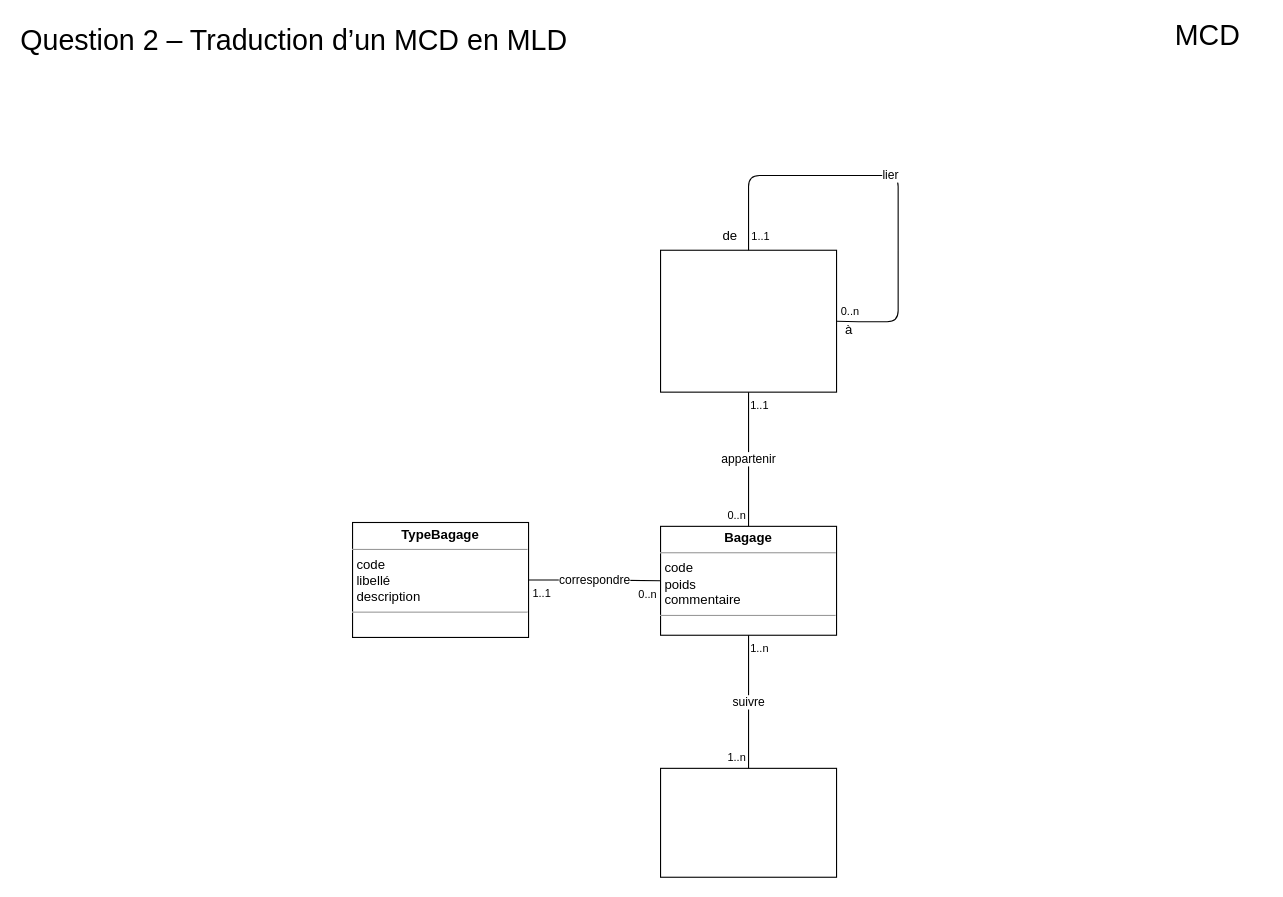
The diagram is 1283 pixels wide and 897 high, and some of its shapes have lost their labels. The centre of each missing label's shape, as x and y in pixels:
"EtapeTraitement code libellé description" goes at point (748, 822).
"Passager prénom nom dateDeNaissance noPassport genre" goes at point (748, 320).
